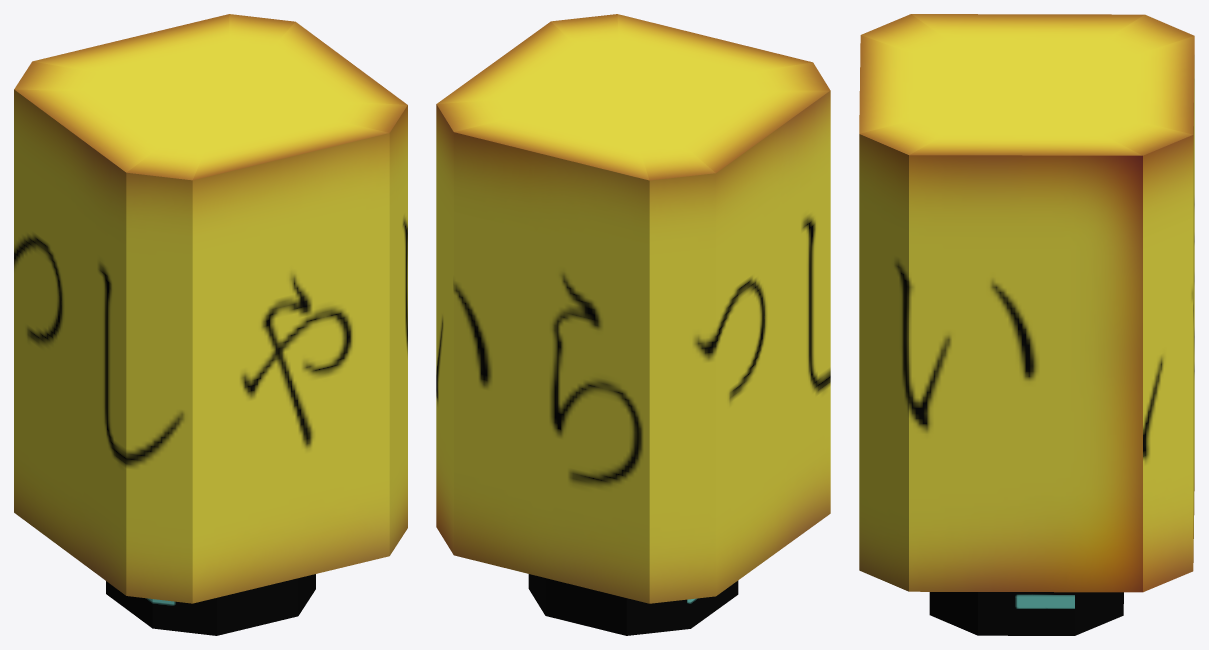
Rendered from Japanese_Sign_03_Art.fbx.
3 renders of one model, left to right at view 1: azimuth 30°, elevation 25°; view 2: azimuth 150°, elevation 25°; view 3: azimuth 270°, elevation 25°, orthographic. The views are drawn at different scales.
Parts seen in each view (by area): view 1: Japanese_Sign_03; view 2: Japanese_Sign_03; view 3: Japanese_Sign_03.
Part boxes in pixels (<box>): Japanese_Sign_03: <box>14,14,407,635</box>; Japanese_Sign_03: <box>436,14,830,635</box>; Japanese_Sign_03: <box>859,14,1194,635</box>.
Bounding box in the file's own units: 0.2842 × 0.4766 × 0.2842.
